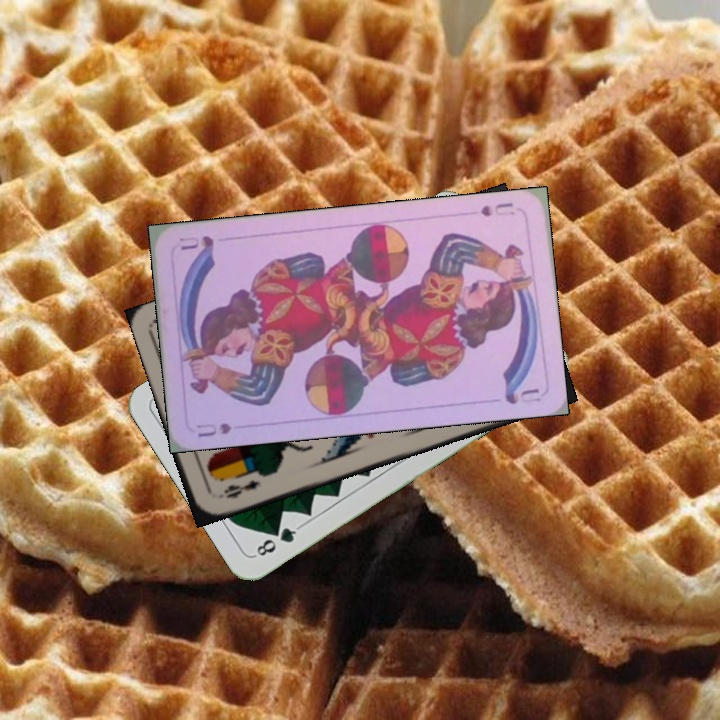EO: (219, 475, 263, 501)
G8: (250, 521, 303, 559)
SU: (193, 419, 234, 440), (476, 198, 517, 219)
